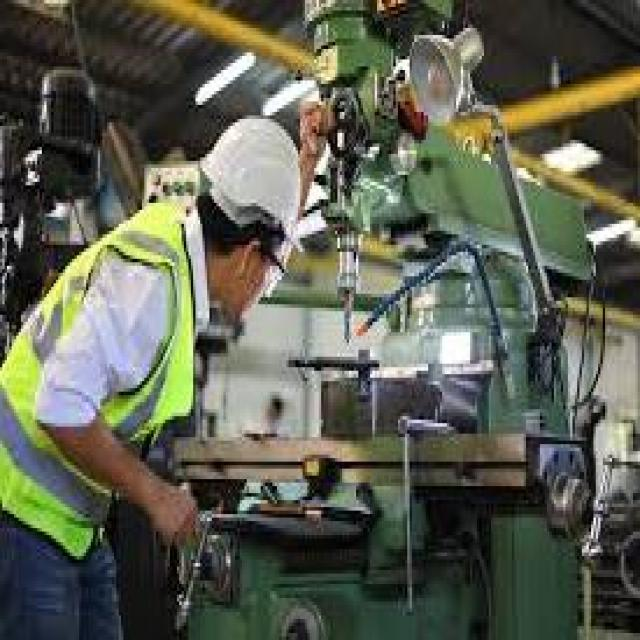Reflective-Jacket: (0, 192, 212, 497)
Safety-Helmet: (198, 105, 316, 273)
